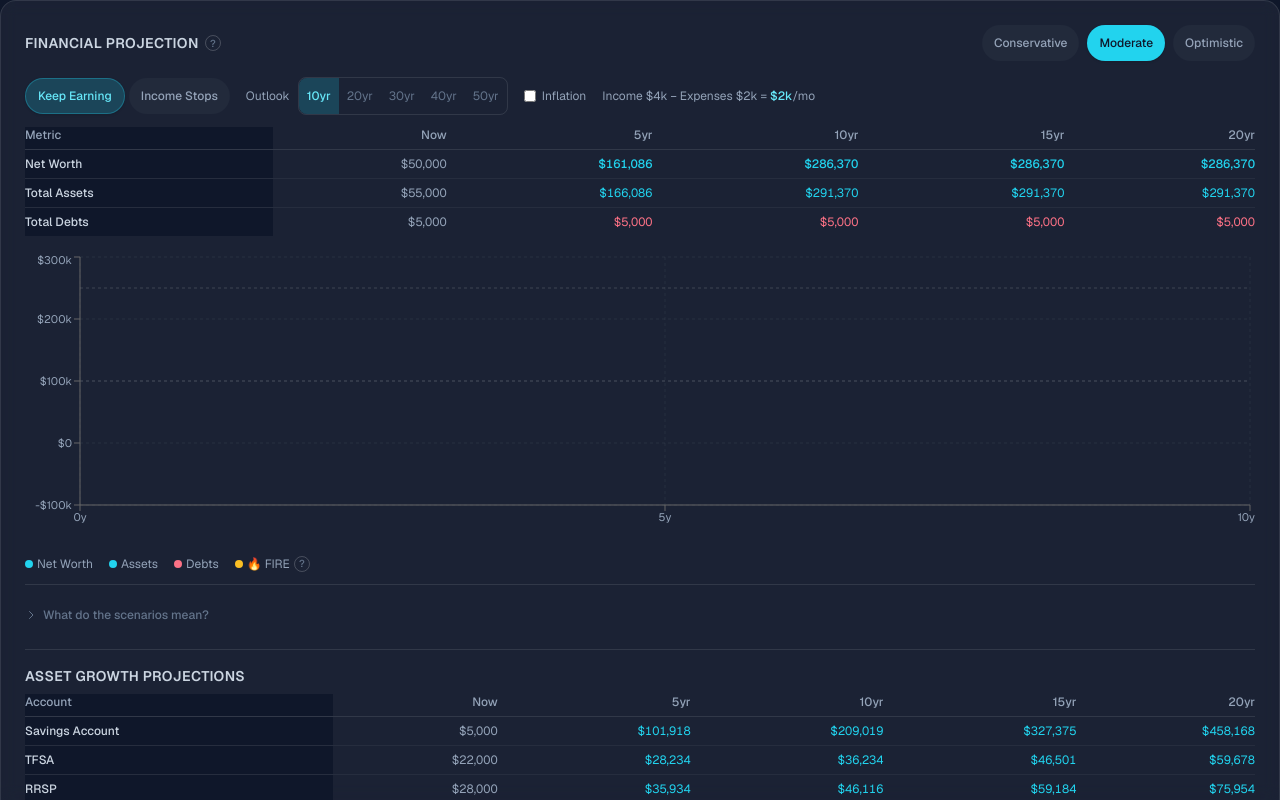
Test: Unified ProjectionChart › switches to Income Stops mode when tab is clicked
Click the button with test id "mode-income-stops" at [179, 96], box [129,78,230,114]
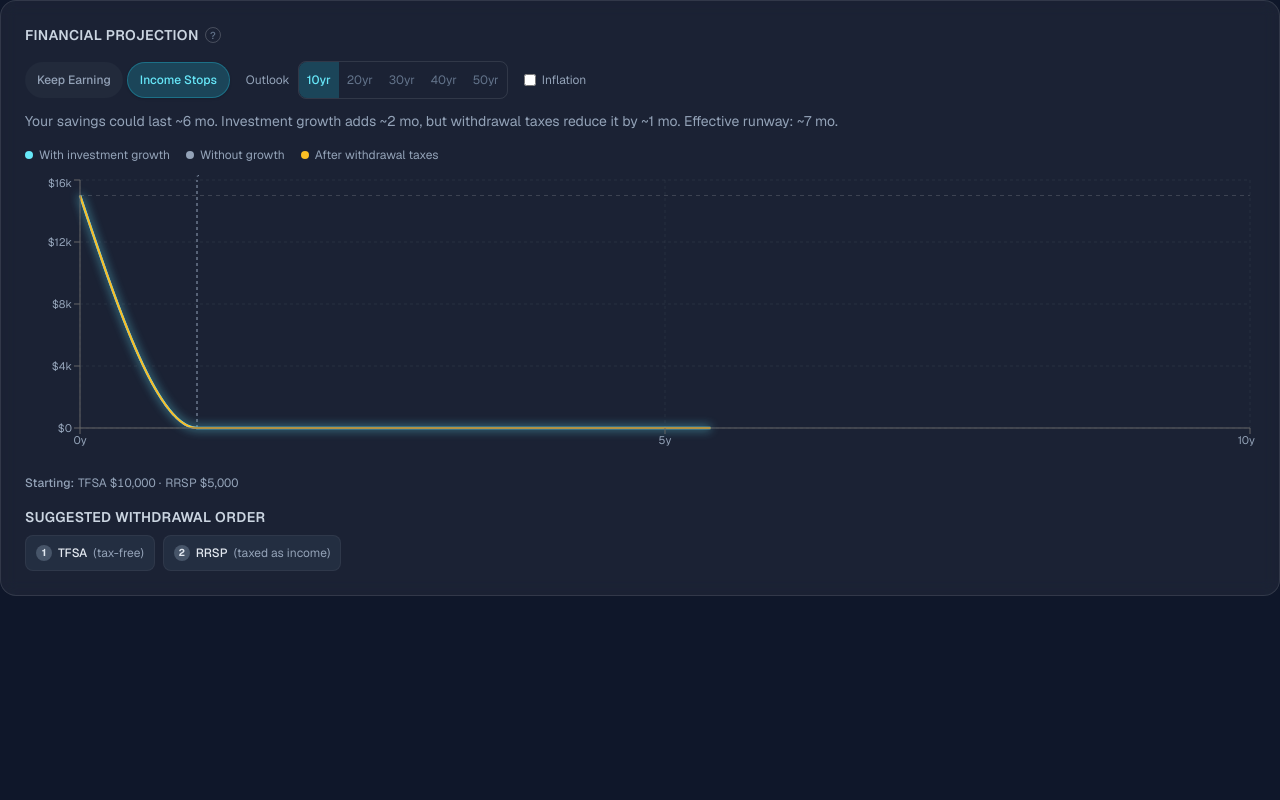
Check: the text with test id "burndown-summary" is shown, box [25,112,838,130]
Check: the element with test id "projection-summary-table" is gone
